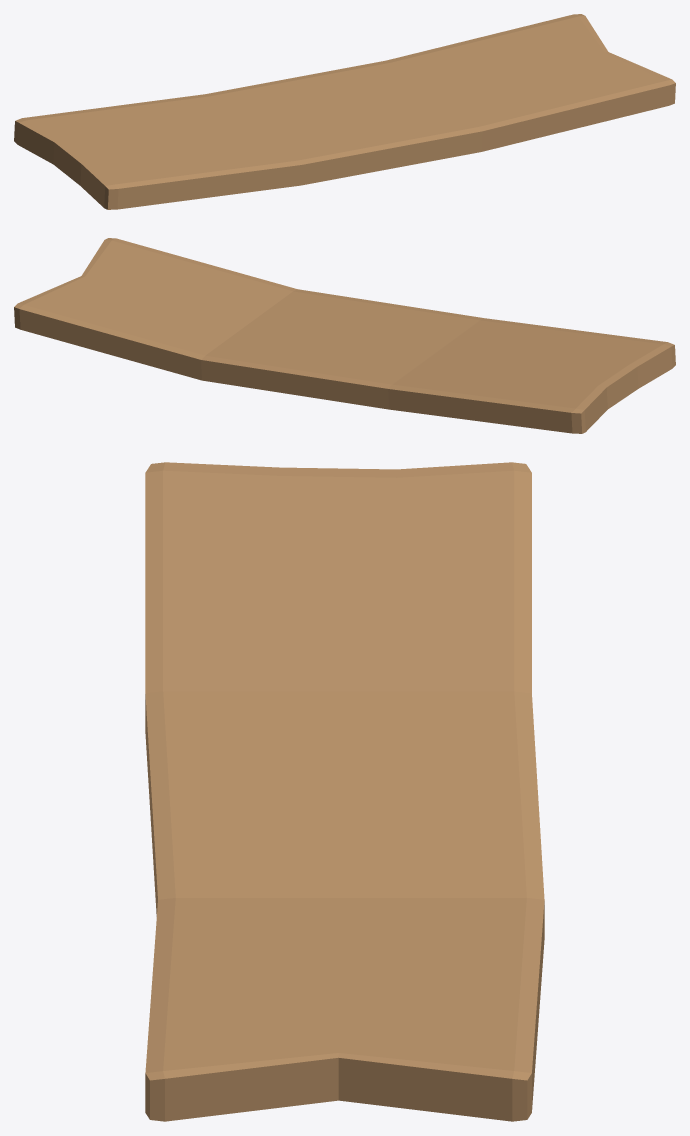
File: Wood_plank.fbx
3 views of the same model, one above another, from view 1: azimuth 30°, elevation 25°; view 2: azimuth 150°, elevation 25°; view 3: azimuth 270°, elevation 25° (orthographic). The views are drawn at different scales.
Parts seen in each view (by area): view 1: Wood_plank; view 2: Wood_plank; view 3: Wood_plank.
Part boxes in pixels (bbox=[...]): Wood_plank: bbox=[14, 14, 675, 209]; Wood_plank: bbox=[14, 238, 675, 433]; Wood_plank: bbox=[145, 462, 544, 1121].
Size of the model in its own units: 41.64 by 137 by 13.12.
